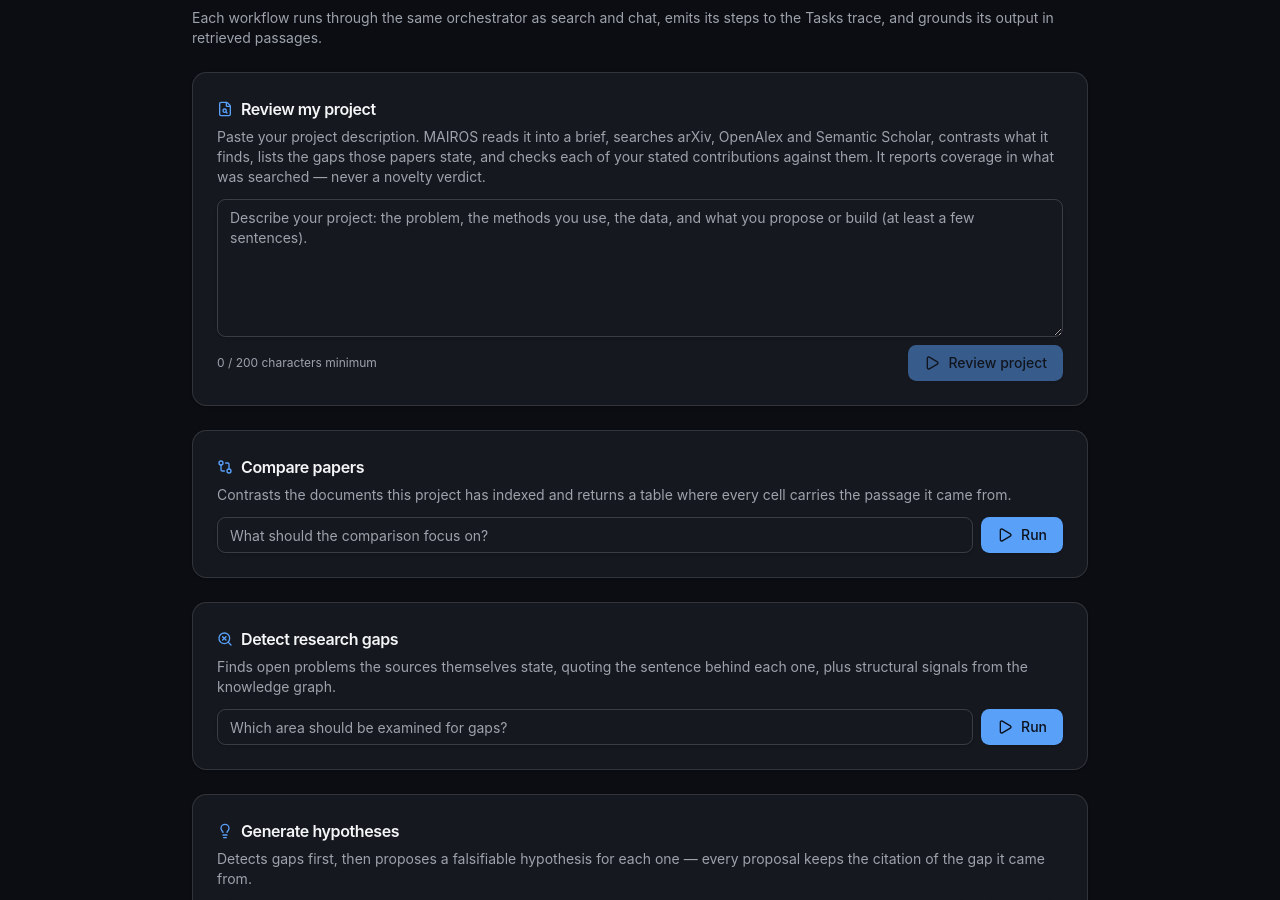
Test case: WorkflowPanel › surfaces an API failure when the run cannot even start
The width and height of the screenshot is (1280, 900).
Click the 1st button "Run".
click(1022, 535)  # box x1=981 y1=517 x2=1063 y2=553
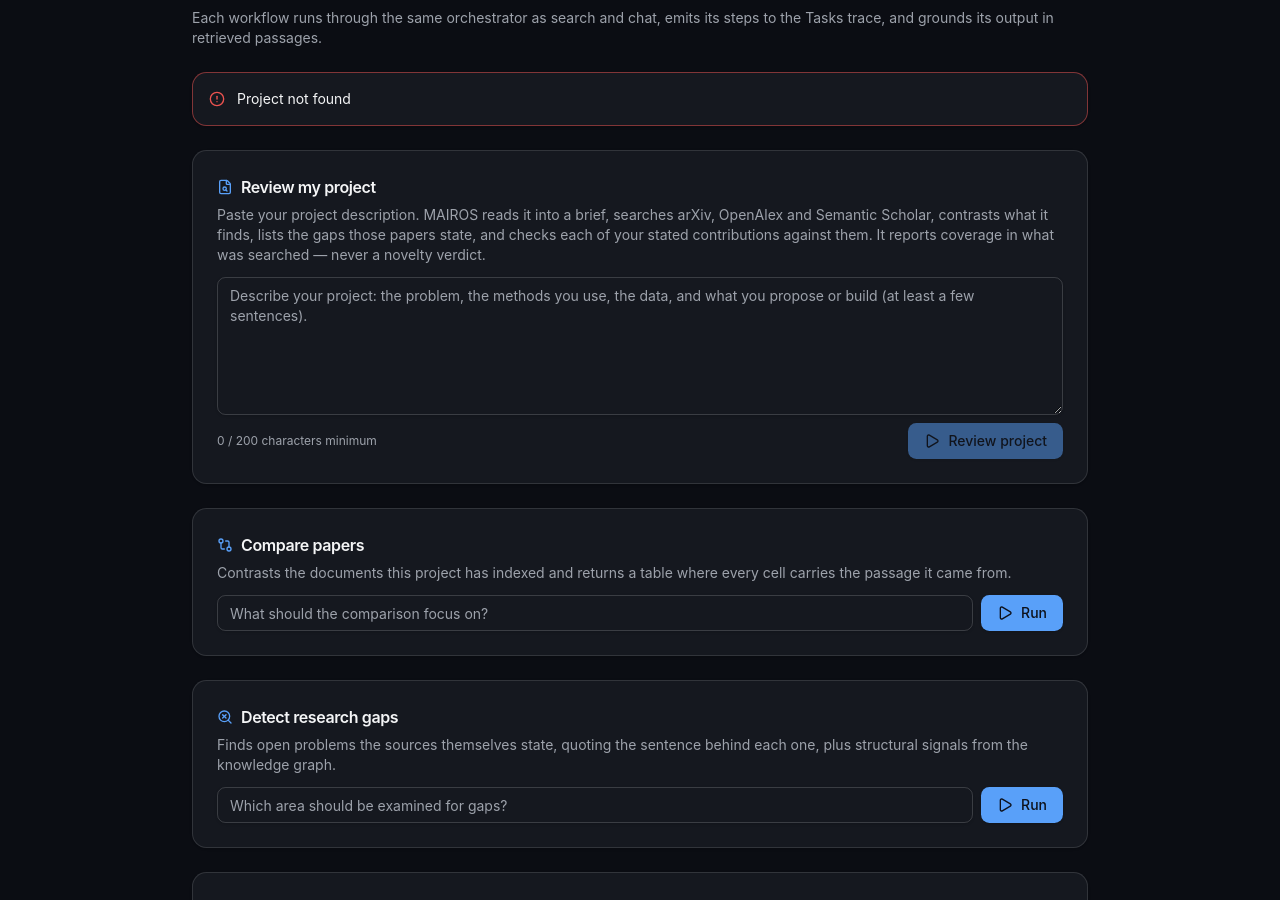
Expected: the text "Project not found" is shown, x1=237 y1=89 x2=351 y2=109
